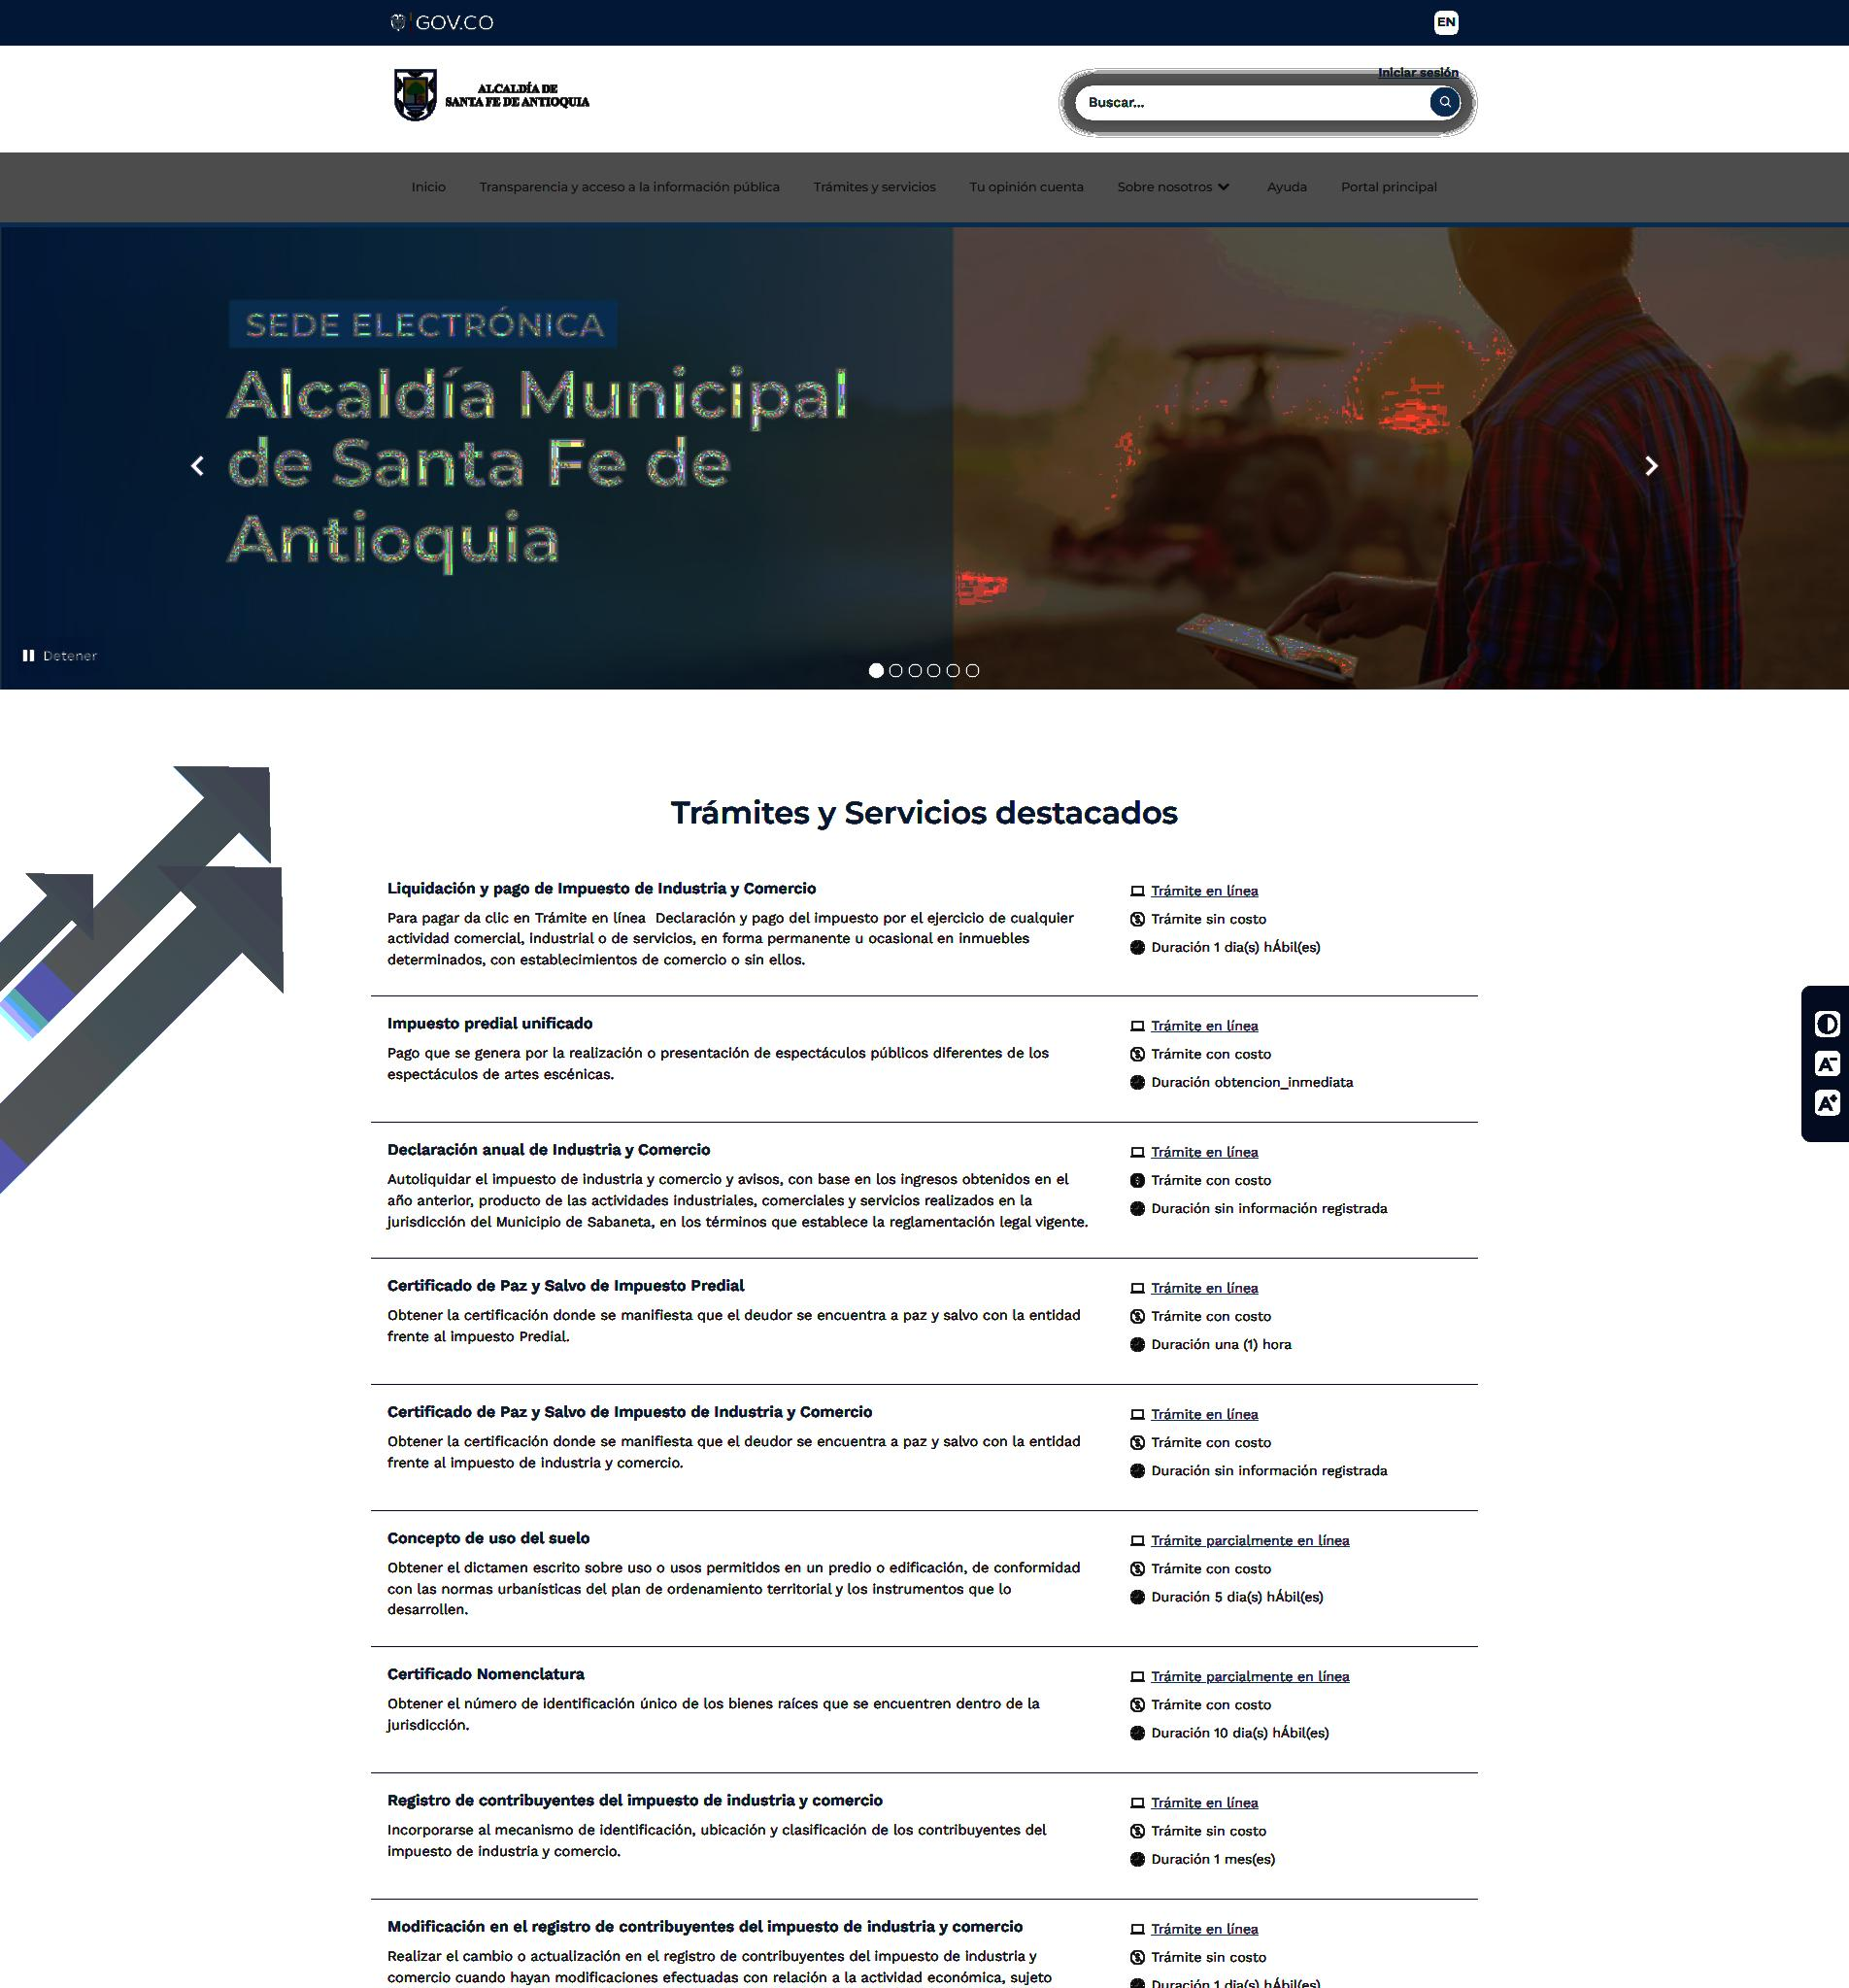banner principal: (0, 213, 1848, 696)
barra accesibilidad: (1799, 983, 1849, 1144)
barra govco: (385, 0, 1463, 49)
btn buscador: (1072, 81, 1463, 123)
btn idiomas: (1433, 9, 1461, 34)
btn inicio: (409, 179, 448, 195)
btn inicio sesion: (1375, 64, 1462, 82)
btn tramites: (650, 787, 1193, 840), (806, 174, 942, 197)
btn transpariencia: (473, 176, 785, 201)
logogovco: (385, 8, 494, 36)
menu principal: (401, 168, 1452, 209)
